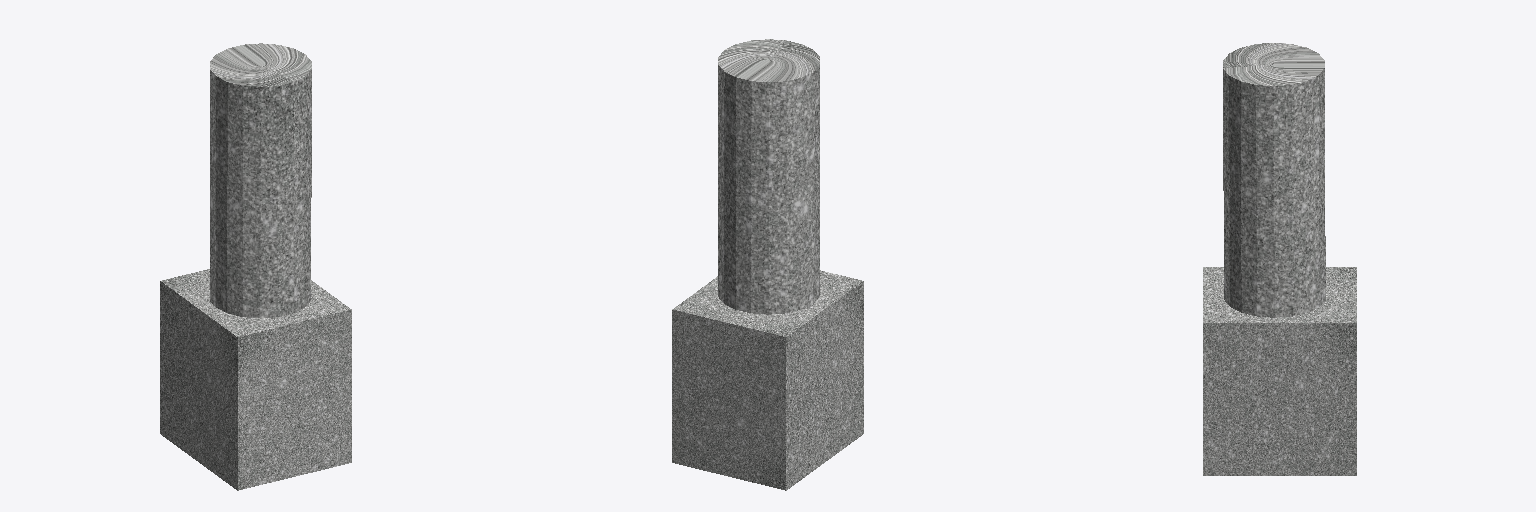
3 views of the same model, side by side, from view 1: azimuth 30°, elevation 25°; view 2: azimuth 150°, elevation 25°; view 3: azimuth 270°, elevation 25° (orthographic).
Parts seen in each view (by area): view 1: Cylinder04; view 2: Cylinder04; view 3: Cylinder04.
Part boxes in pixels (x1,y1,x2,y2): Cylinder04: (160, 43, 351, 490); Cylinder04: (672, 39, 863, 490); Cylinder04: (1203, 43, 1356, 475).
Size of the model in its own units: 13.3 by 42.94 by 15.58.
Materials: 1 (1 with a texture image).